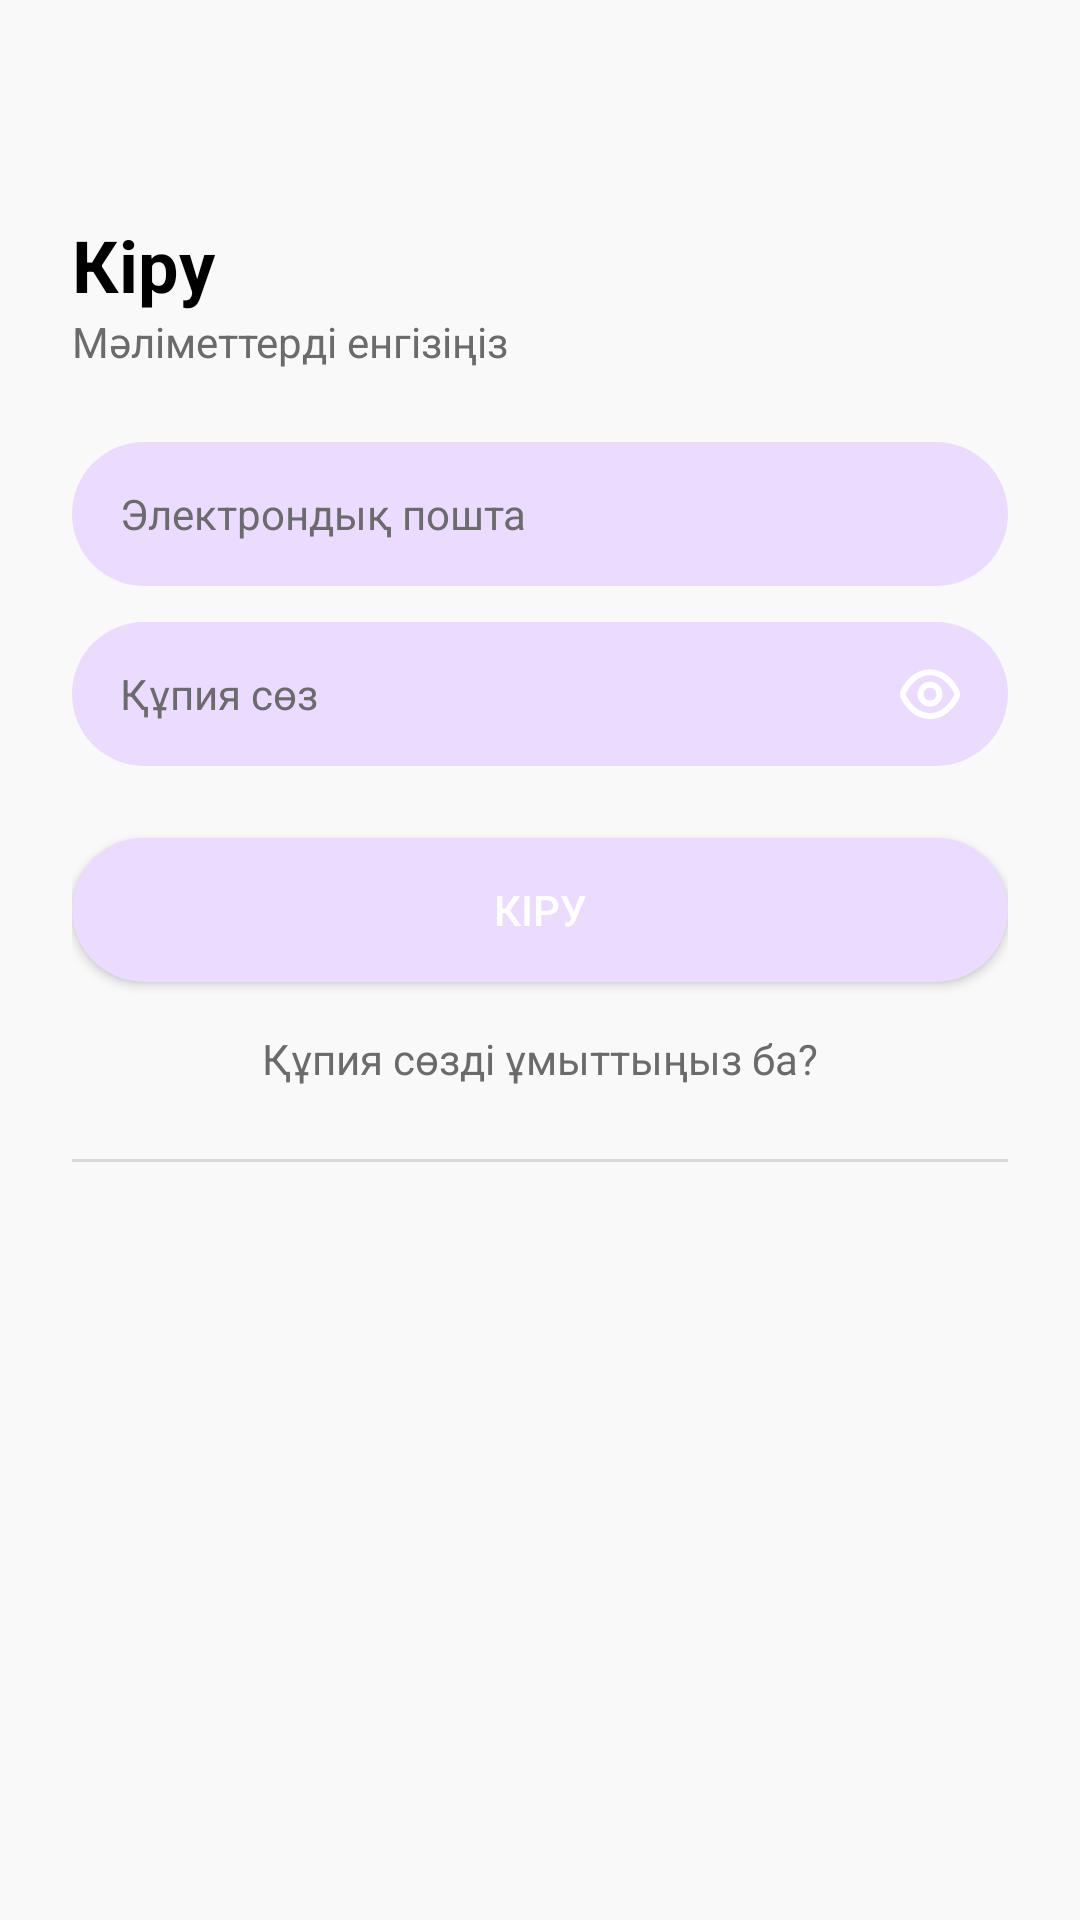

Named icons in this screenshot (1080×1920) and their bounding boxes, (x1, y1, x2, y2):
eye show: (900, 669, 960, 719)
